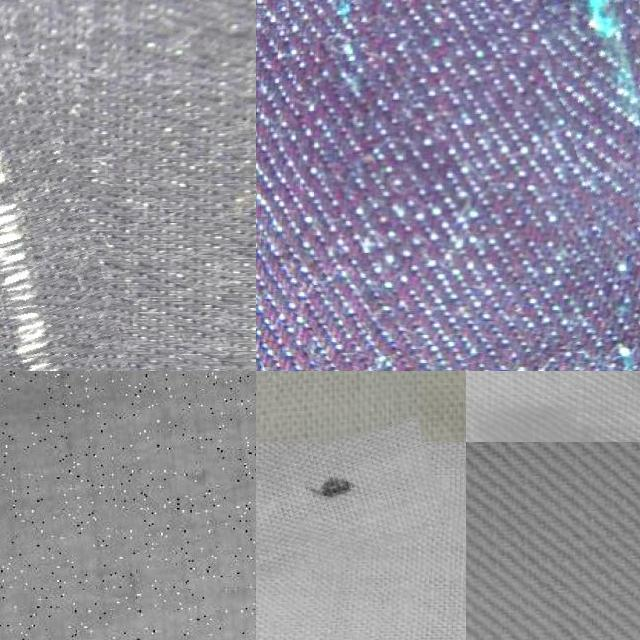Thread_other: (256, 429, 443, 571)
stains: (0, 9, 139, 371), (529, 0, 640, 256)
